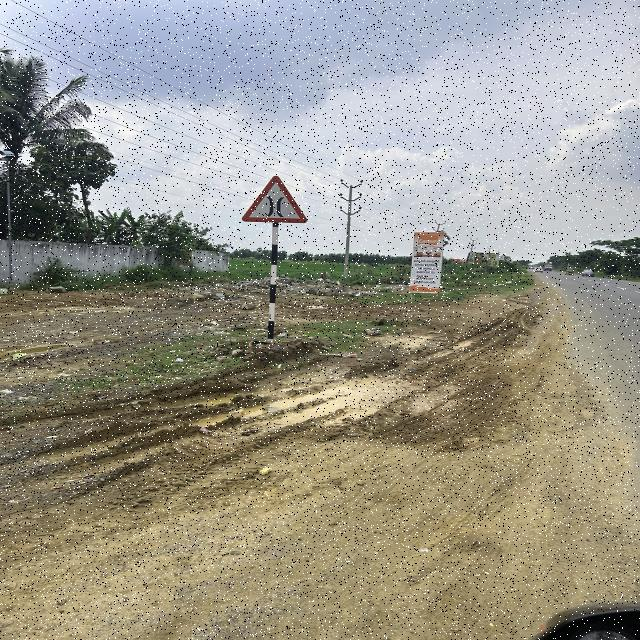Narrow_Bridge: (239, 174, 307, 223)
